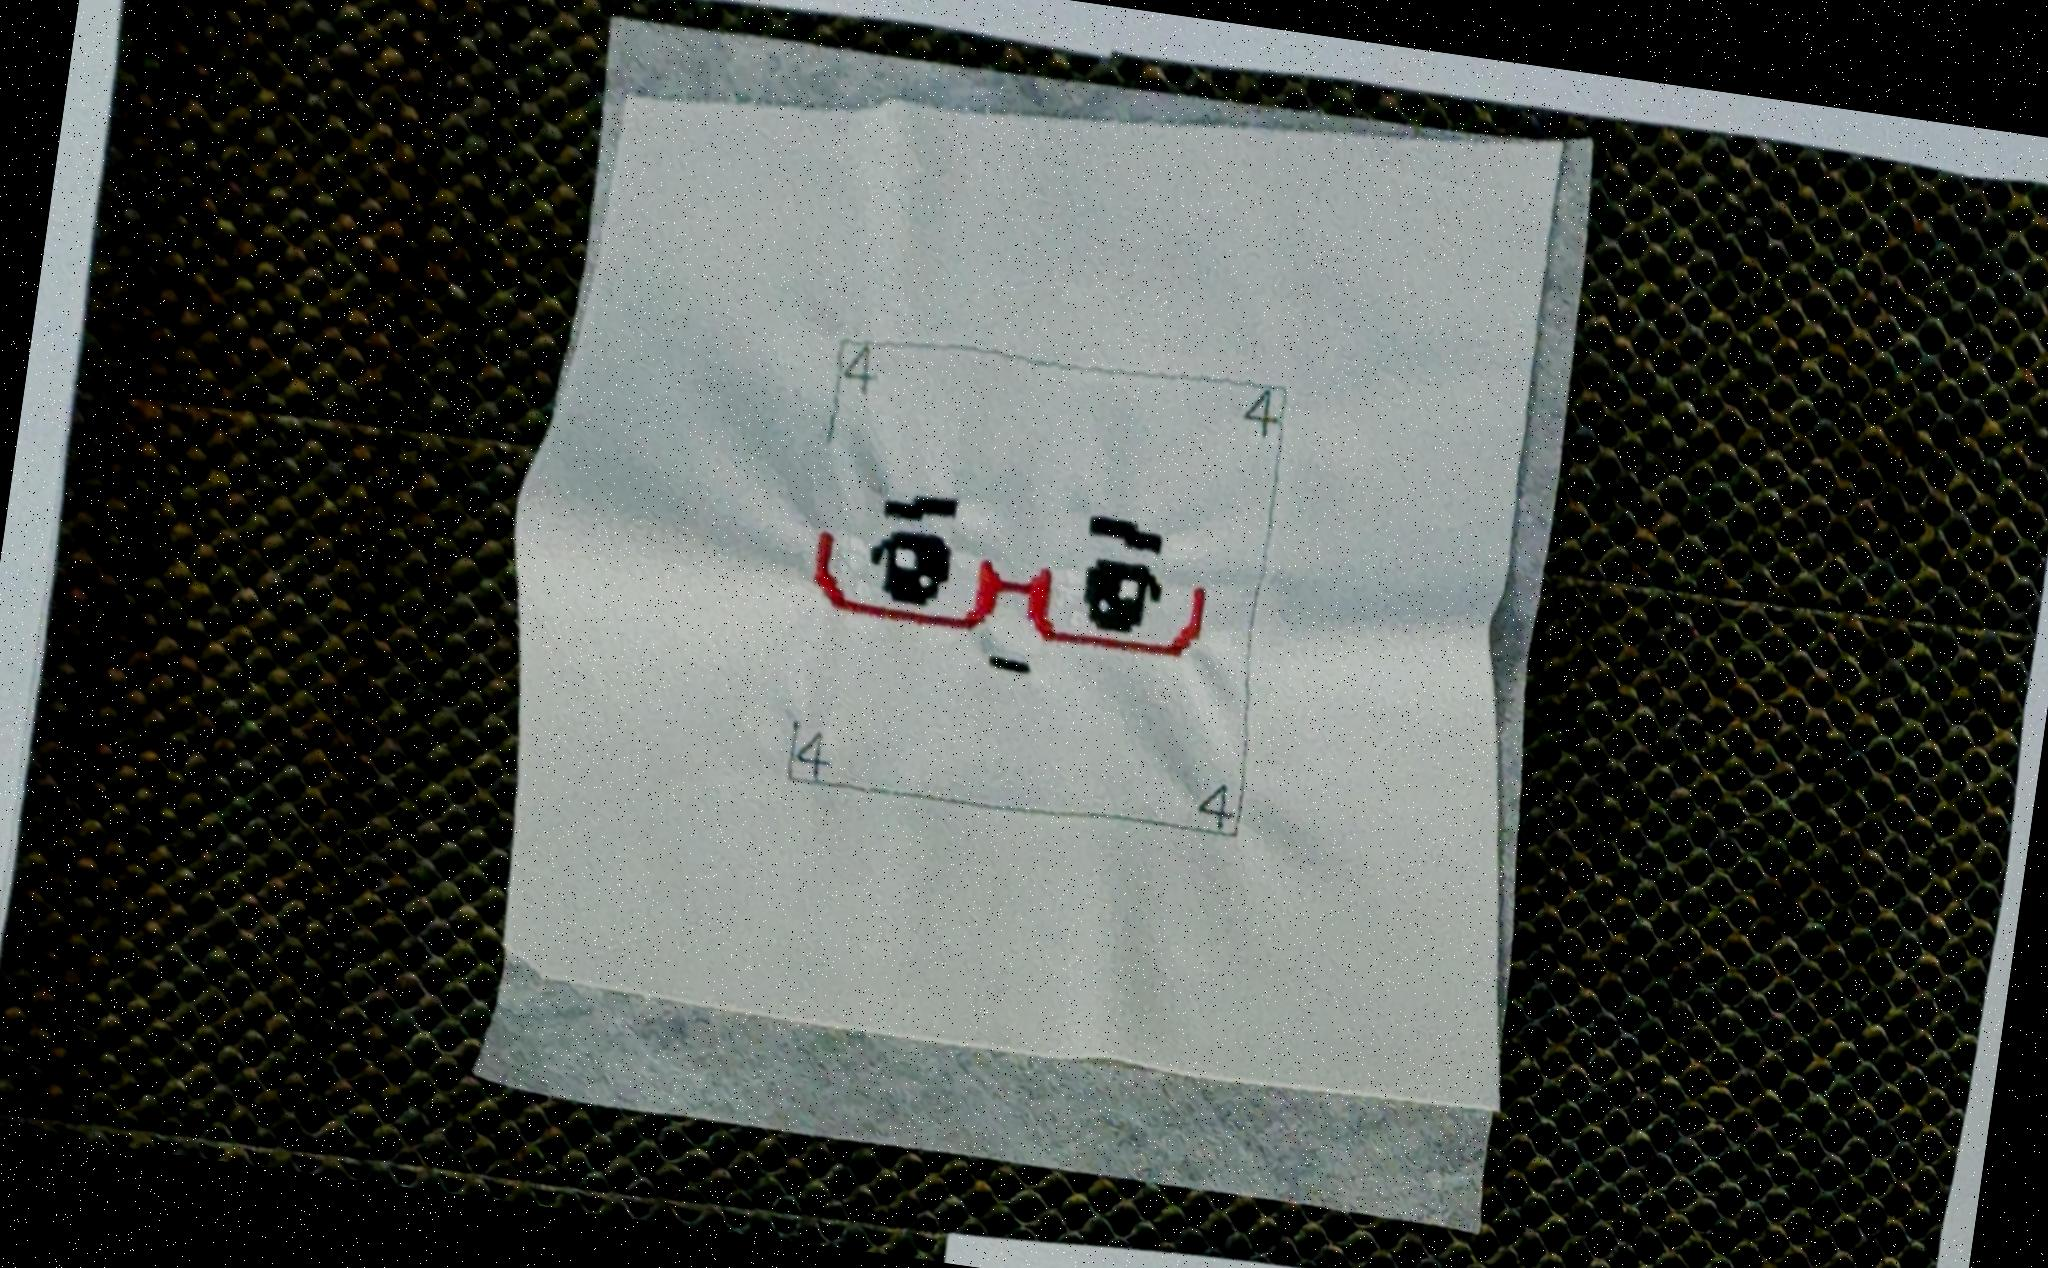objects: (407, 0, 1679, 1268)
